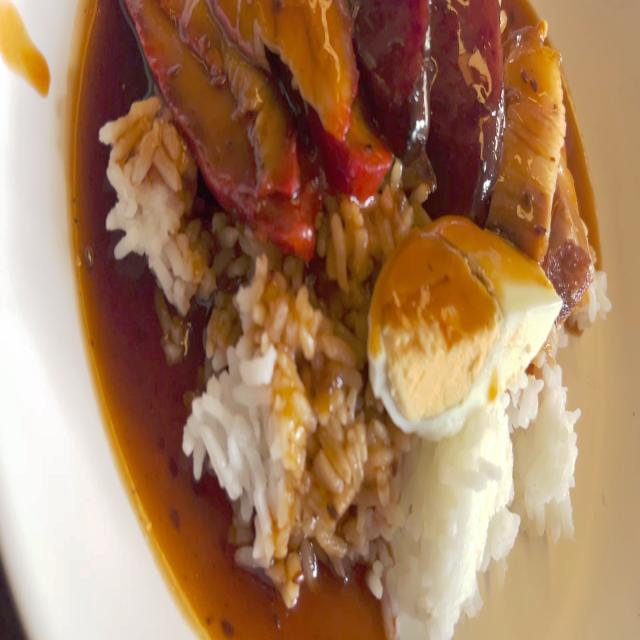boiled_egg: (370, 224, 555, 436)
chainese_sausage: (350, 0, 508, 218), (434, 0, 507, 218), (357, 0, 431, 159)
crispy_pork: (500, 22, 596, 320), (500, 21, 559, 240), (550, 159, 594, 309)
red_pork: (136, 0, 372, 248), (170, 0, 300, 193), (252, 0, 362, 136), (330, 104, 380, 205), (210, 0, 264, 71)
red_pork_and_crispy_pork: (99, 0, 614, 640)
rice: (180, 254, 366, 573), (358, 440, 518, 640), (100, 97, 198, 300), (518, 358, 590, 528), (576, 276, 612, 328)
